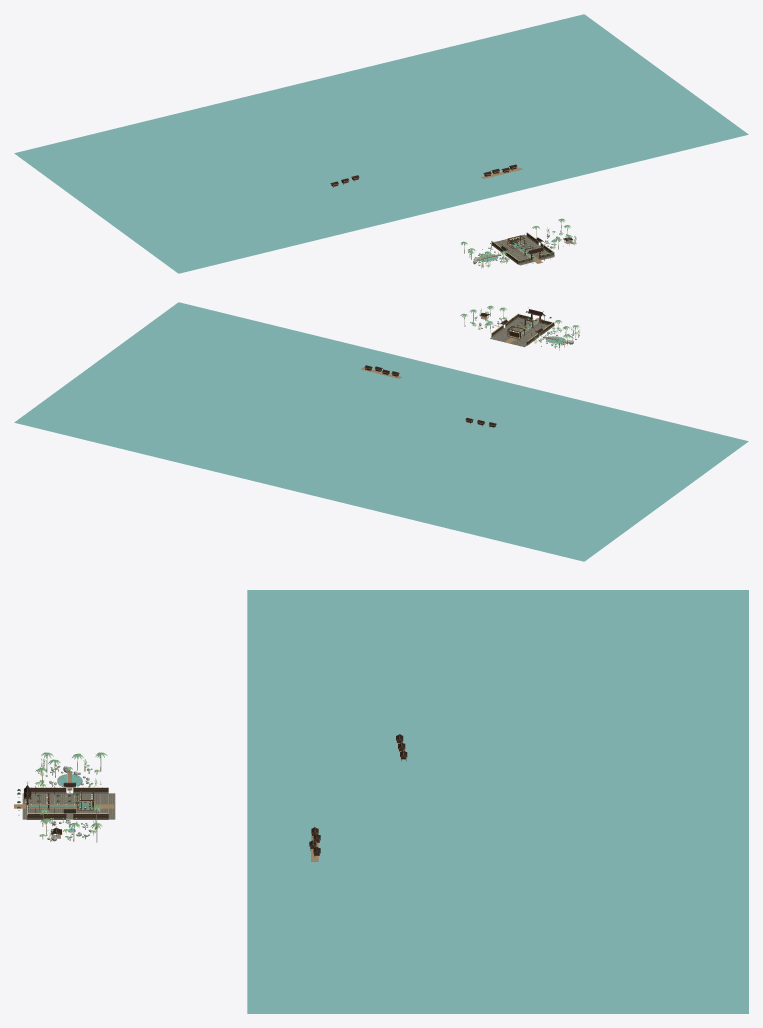
The model's file is compound.glb.
3 renders of one model, top to bottom at view 1: azimuth 30°, elevation 25°; view 2: azimuth 150°, elevation 25°; view 3: azimuth 270°, elevation 25°, orthographic. The views are drawn at different scales.
Visible parts, largest first — view 1: distant_water, courtyard; view 2: distant_water, courtyard; view 3: distant_water, courtyard, walls.
Boxes of the visible parts, x1,y1,x2,y2 form: distant_water: [14, 14, 748, 273]; courtyard: [490, 234, 554, 265]; distant_water: [14, 302, 748, 561]; courtyard: [490, 318, 554, 347]; distant_water: [247, 590, 748, 1013]; courtyard: [14, 793, 115, 819]; walls: [27, 781, 108, 819].
Size of the model in its own units: 520 by 12.81 by 381.
Materials: 37 (6 with a texture image).
